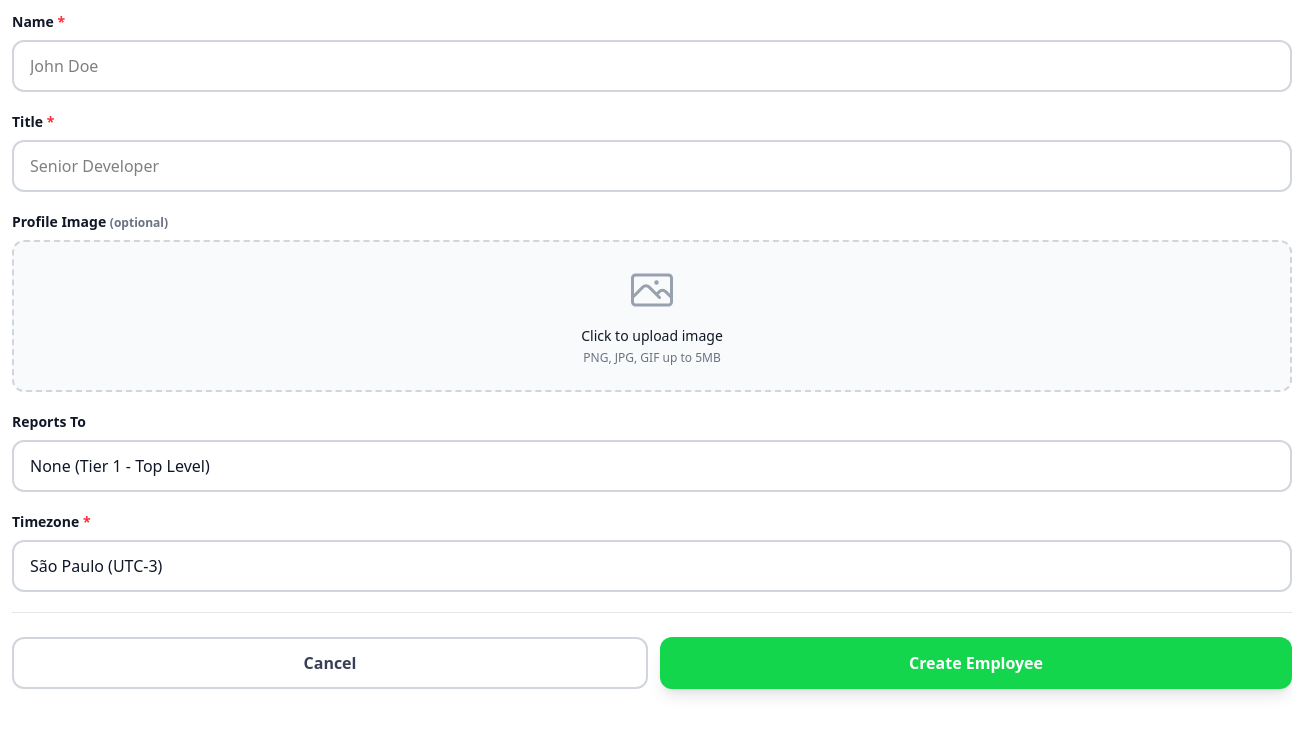
EmployeeForm.vue › form validation › should show error when title is empty
Type "Test Name" into the field with id "name" at (652, 66), box x1=12 y1=40 x2=1292 y2=92
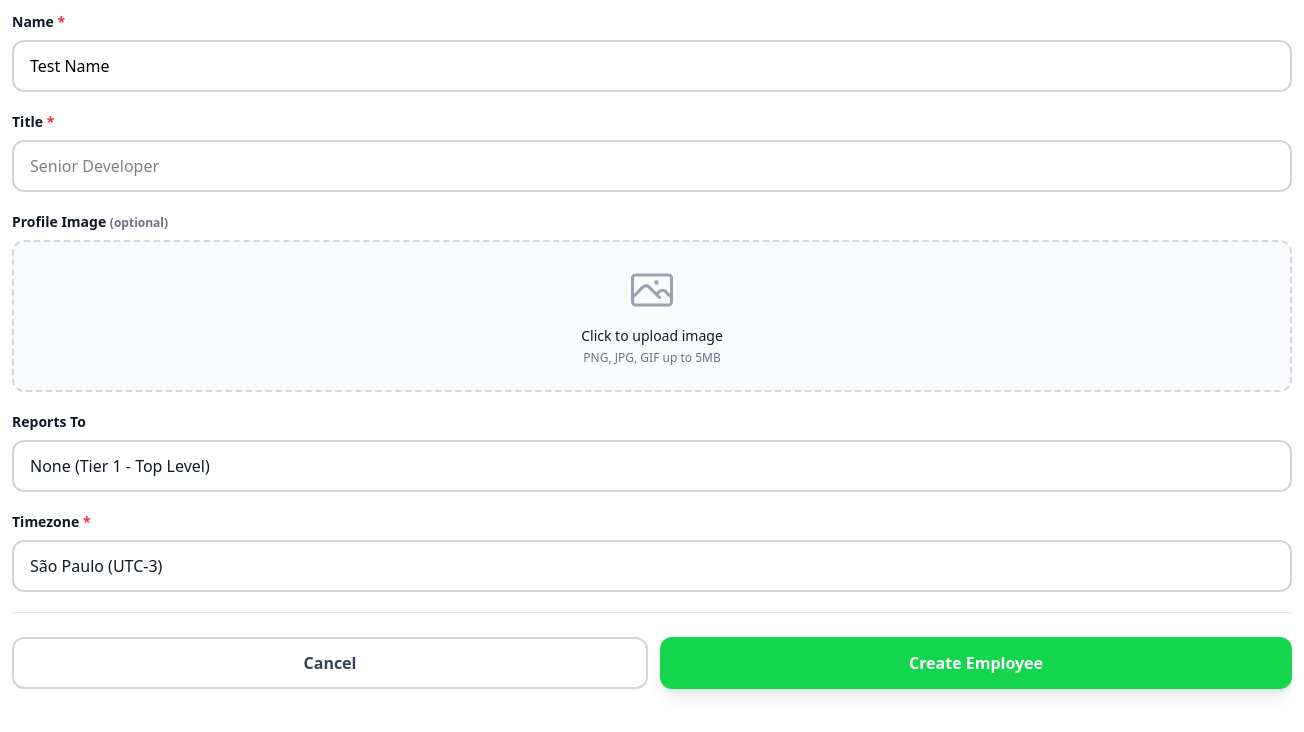
Submit the form
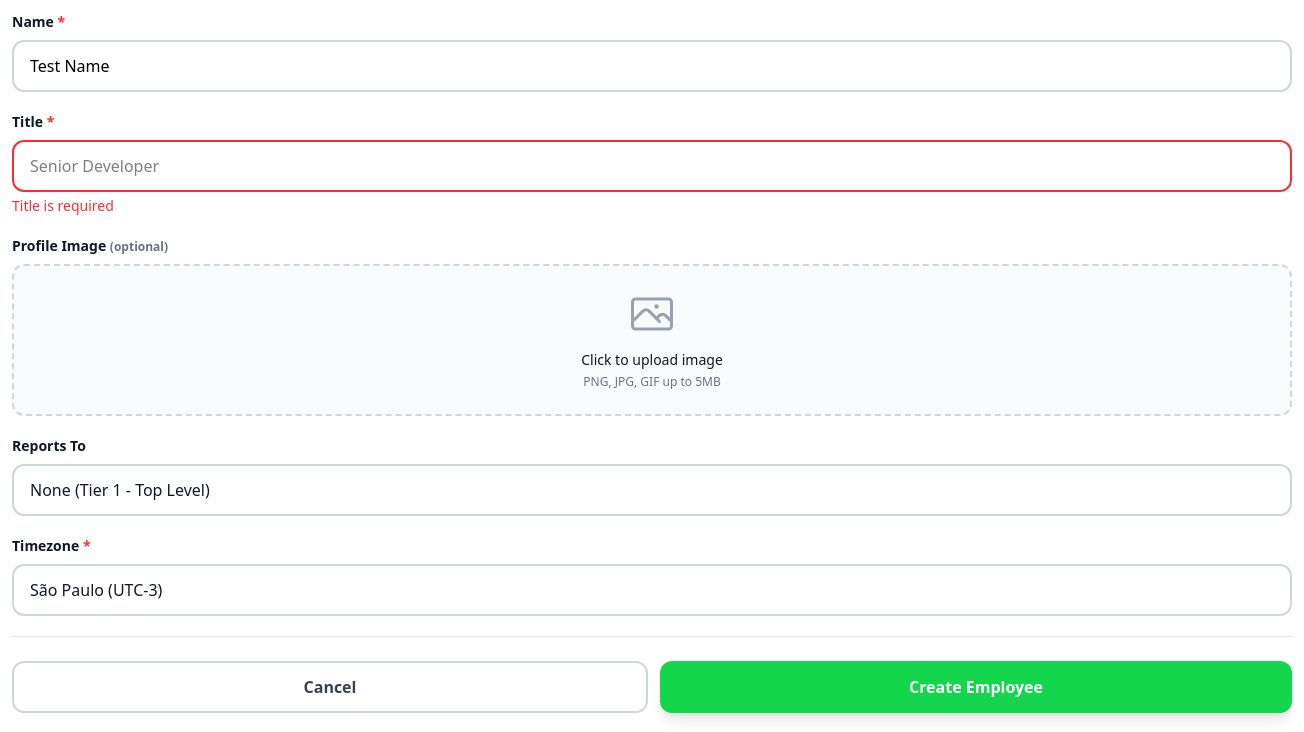
Expected: the form shows "Title is required", x1=12 y1=196 x2=114 y2=215
